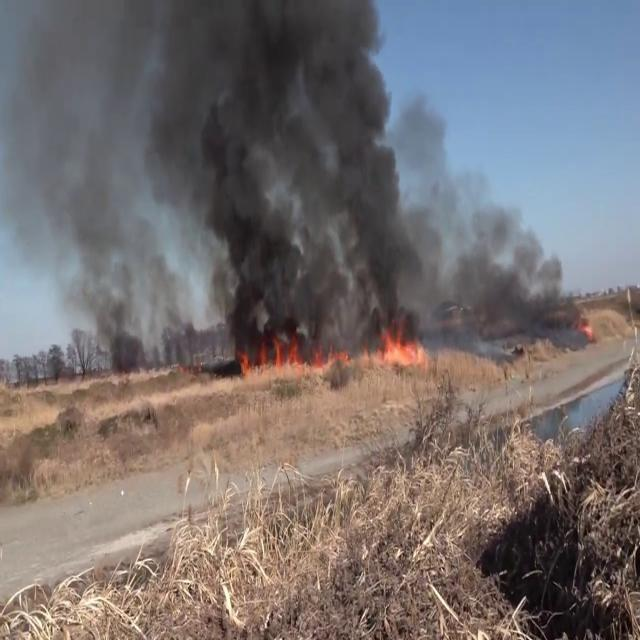Fire: (234, 319, 352, 379), (377, 316, 428, 370)
Smoke: (143, 0, 440, 352), (0, 0, 166, 374), (423, 178, 585, 330)
